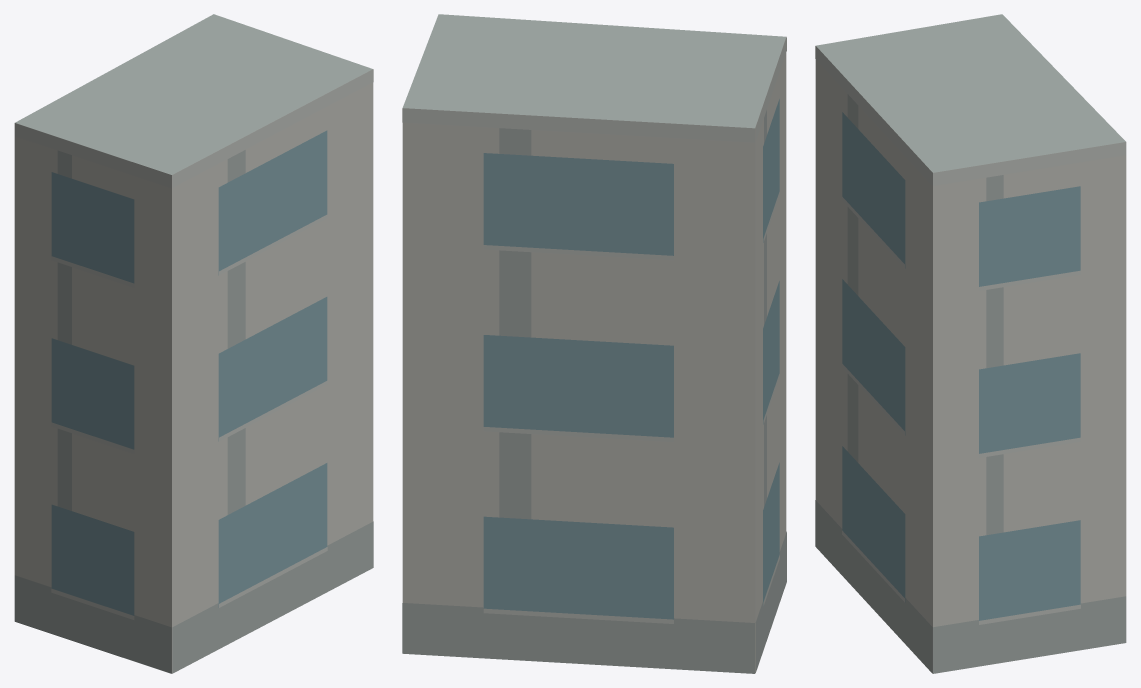
File: survey-upis-32520848.glb
3 views of the same model, side by side, from view 1: azimuth 30°, elevation 25°; view 2: azimuth 150°, elevation 25°; view 3: azimuth 270°, elevation 25° (orthographic). The views are drawn at different scales.
Visible parts, largest first — view 1: survey-upis-32520848.tmp; view 2: survey-upis-32520848.tmp; view 3: survey-upis-32520848.tmp.
Part boxes in pixels (x1,y1,x2,y2): survey-upis-32520848.tmp: (14, 14, 373, 673); survey-upis-32520848.tmp: (402, 14, 786, 673); survey-upis-32520848.tmp: (815, 14, 1126, 673).
Bounding box in the file's own units: 6.23 × 9.15 × 5.15.
